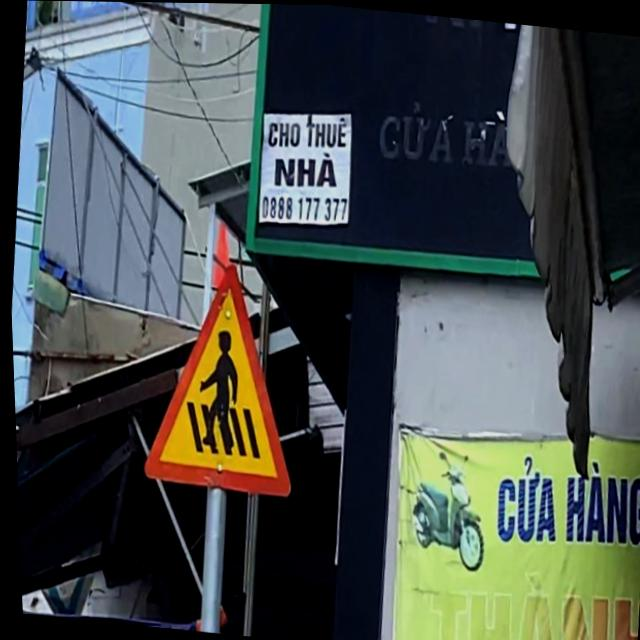Nguoi di bo cat ngang: (123, 236, 315, 511)
